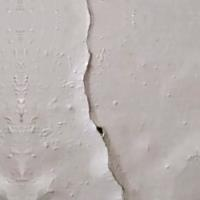crack: (62, 0, 131, 199)
